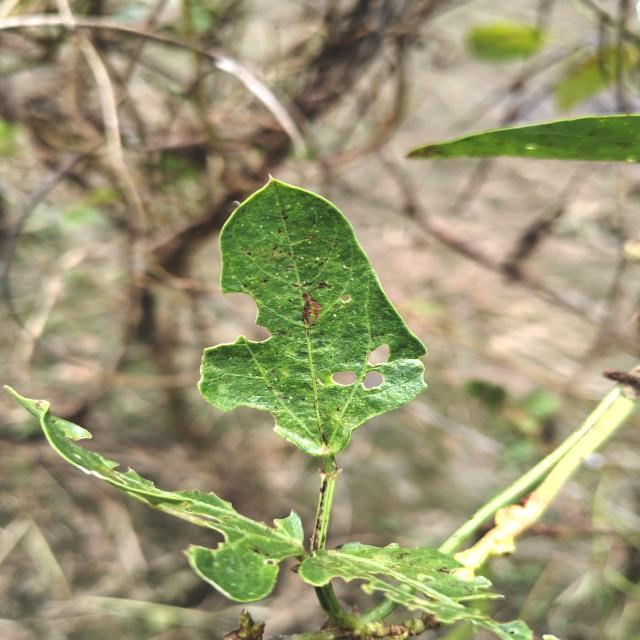leaf-moderate: (200, 180, 426, 457)
